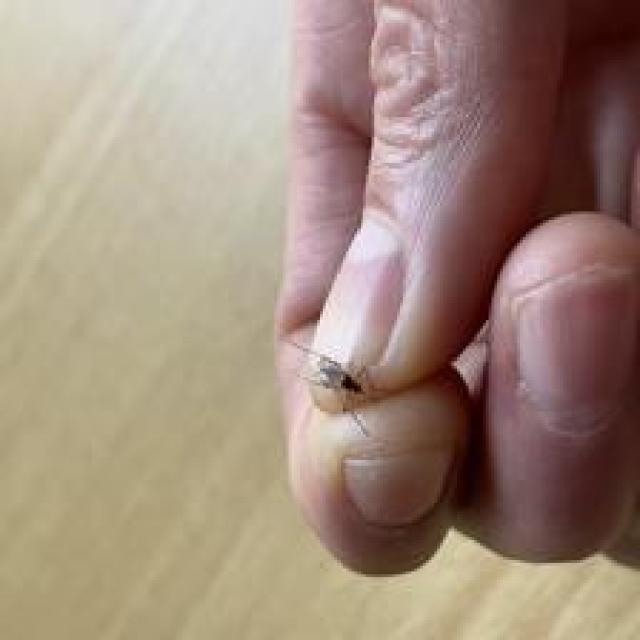Culex: (287, 337, 373, 437)
